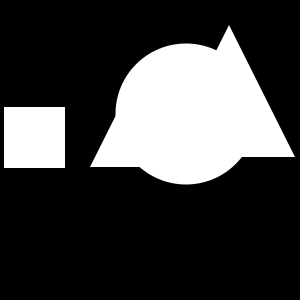circle: (4, 107, 65, 168)
rectangle: (116, 44, 256, 184)
triangle: (163, 25, 295, 157), (90, 86, 171, 167)
